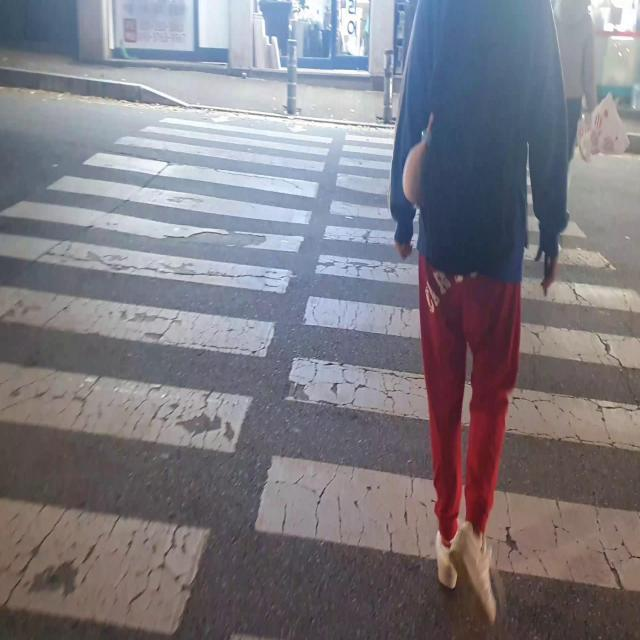crosswalk: (0, 109, 638, 640)
